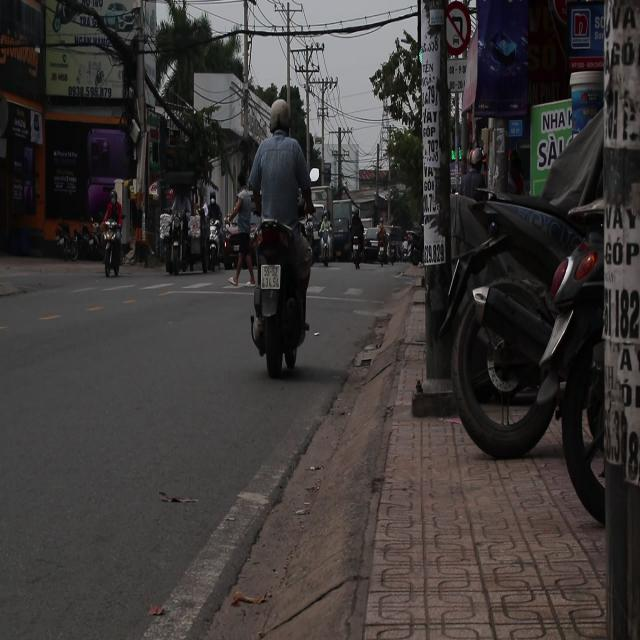motorbike: (250, 220, 314, 379), (94, 199, 132, 287), (344, 210, 370, 292), (199, 208, 226, 284), (318, 212, 341, 285)
